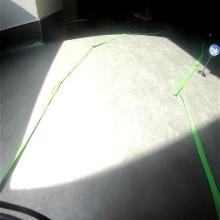right: (209, 44, 220, 56)
